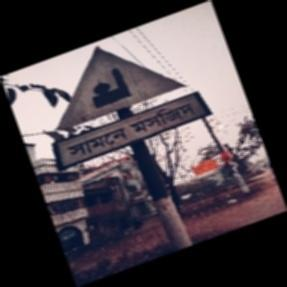Mosque in front: (56, 46, 212, 170)
